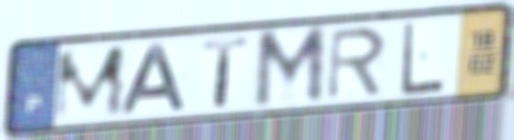A: (119, 41, 190, 117)
L: (399, 19, 447, 98)
M: (250, 23, 330, 113), (49, 42, 129, 124)
R: (324, 24, 389, 103)
T: (200, 34, 252, 109)
